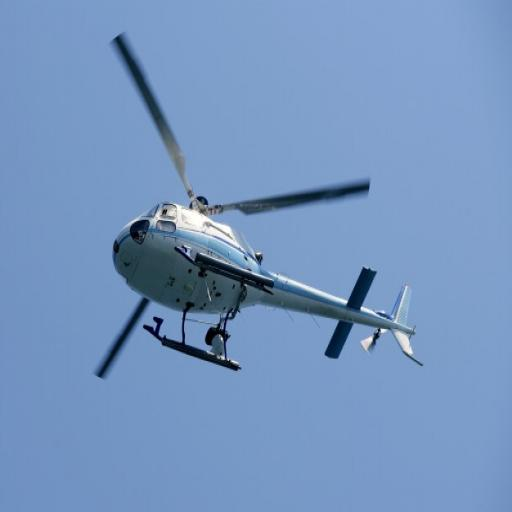helicopter: (90, 33, 427, 373)
